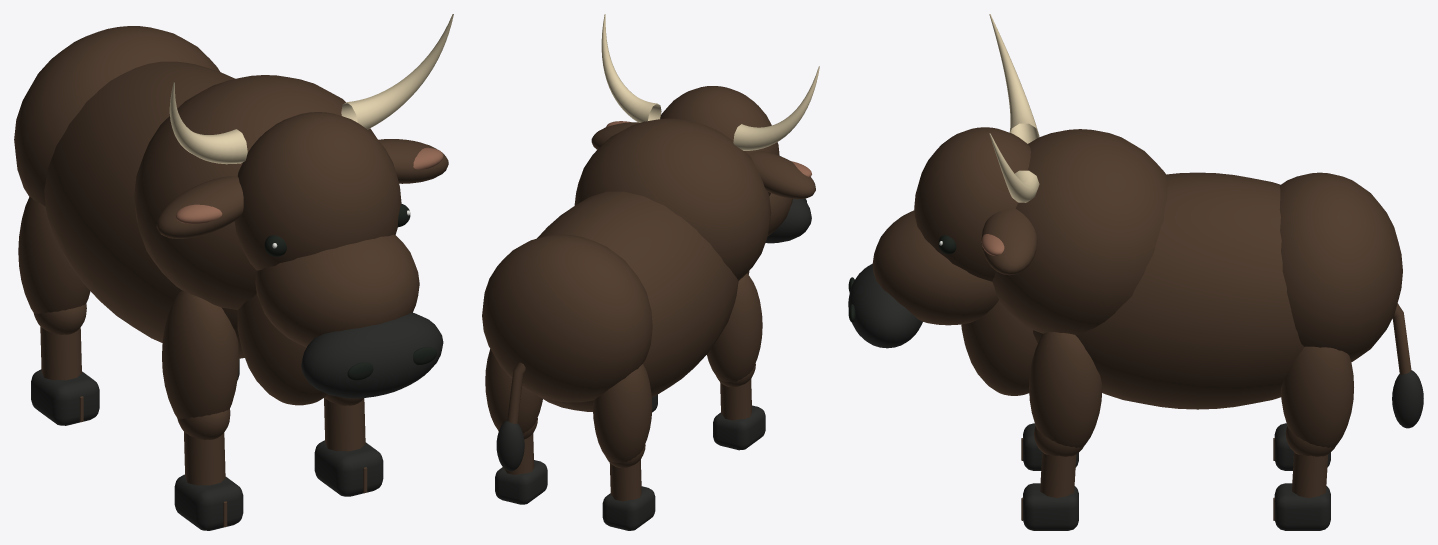
Rendered from bull.glb.
The picture shows the model from 3 angles, left to right: view 1: azimuth 30°, elevation 25°; view 2: azimuth 150°, elevation 25°; view 3: azimuth 270°, elevation 25°; orthographic projection. The views are drawn at different scales.
Parts seen in each view (by area): view 1: Body, Forehead, Shoulders, Cheeks, Haunches, Velvet muzzle, Upper leg.001, Upper leg, Dewlap, Ear, Cloven hoof.001, Cloven hoof.003 (+10 smaller); view 2: Haunches, Body, Shoulders, Upper leg, Upper leg.001, Forehead, Upper leg.002, Ear, Smooth tapered horn, Smooth tapered horn.001, Cloven hoof, Cloven hoof.002 (+9 smaller); view 3: Body, Shoulders, Haunches, Forehead, Cheeks, Upper leg.003, Upper leg.002, Dewlap, Velvet muzzle, Ear.001, Cloven hoof.002, Cloven hoof.003 (+8 smaller).
Boxes of the visible parts, x1,y1,x2,y2 form: Body: (44,61,244,358); Forehead: (234,112,401,270); Shoulders: (134,75,377,310); Cheeks: (255,234,419,347); Haunches: (14,26,219,206); Velvet muzzle: (301,312,443,398); Upper leg.001: (162,290,239,418); Upper leg: (18,196,90,313); Dewlap: (237,294,328,405); Ear: (156,176,243,238); Cloven hoof.001: (174,474,243,530); Cloven hoof.003: (314,440,383,496); Haunches: (482,234,652,402); Body: (536,191,738,411); Shoulders: (574,118,771,280); Upper leg: (593,364,652,462); Upper leg.001: (707,273,762,382); Forehead: (660,86,779,195); Upper leg.002: (485,349,542,433); Ear: (748,151,815,199); Smooth tapered horn: (733,66,819,150); Smooth tapered horn.001: (601,14,661,122); Cloven hoof: (602,486,655,530); Cloven hoof.002: (495,460,547,504); Body: (1033,172,1303,409); Shoulders: (992,129,1168,334); Haunches: (1279,172,1402,361); Forehead: (914,127,1030,281); Cheeks: (872,210,998,325); Upper leg.003: (1029,332,1102,447); Upper leg.002: (1281,346,1353,447); Dewlap: (961,300,1037,395); Velvet muzzle: (848,264,922,348); Ear.001: (981,208,1037,275); Cloven hoof.002: (1274,483,1330,530); Cloven hoof.003: (1023,483,1078,530).
Size of the model in its own units: 1.19 by 1.9 by 2.35.
